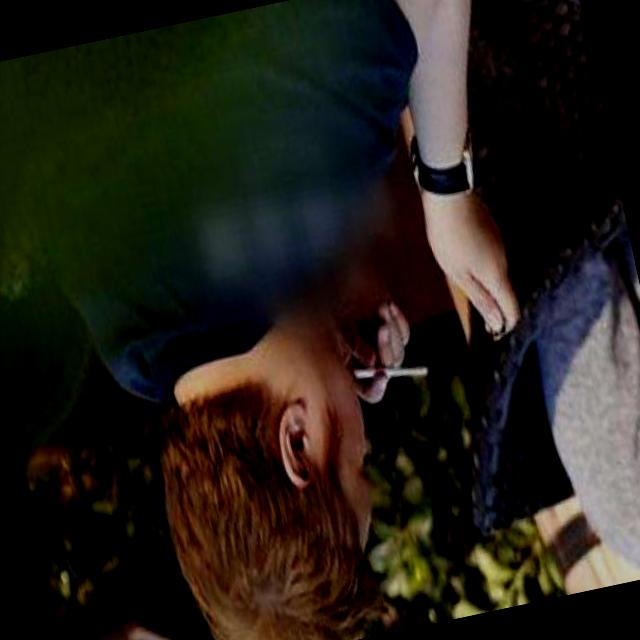cigarette: (351, 338, 434, 394)
